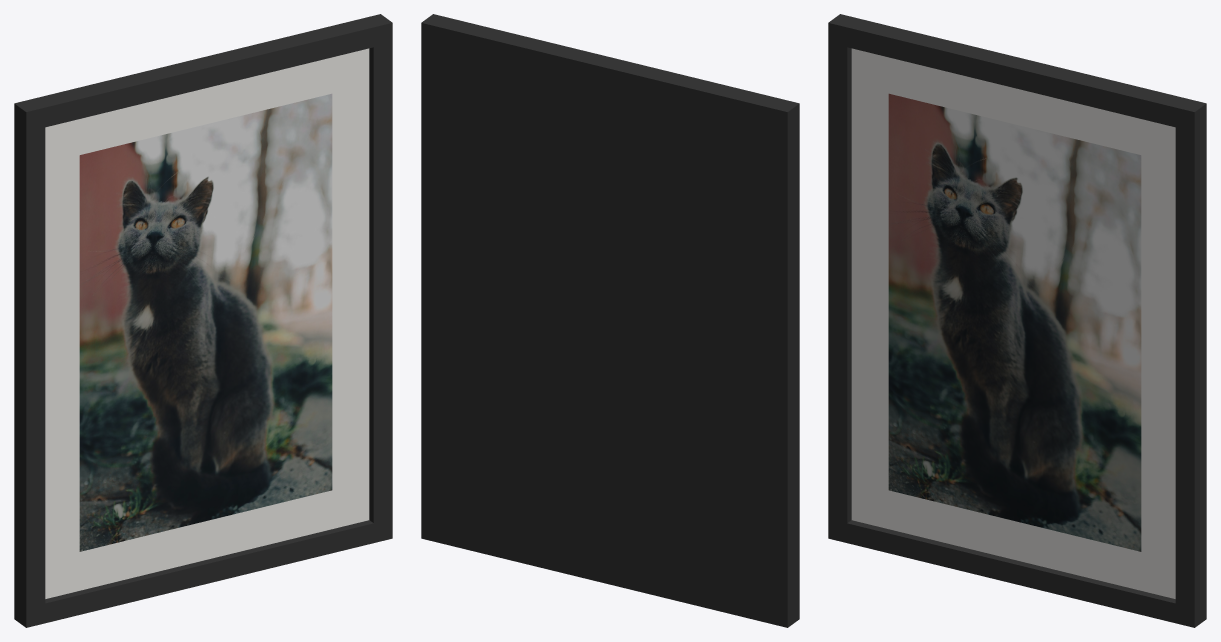
File: katten-40.gltf
3 views of the same model, side by side, from view 1: azimuth 30°, elevation 25°; view 2: azimuth 150°, elevation 25°; view 3: azimuth 330°, elevation 25° (orthographic).
Visible parts, largest first — view 1: tavla; view 2: tavla; view 3: tavla.
Boxes of the visible parts, <box> form: tavla: <box>14,14,392,627</box>; tavla: <box>421,14,799,627</box>; tavla: <box>828,14,1206,627</box>.
Bounding box in the file's own units: 0.3867 × 0.52 × 0.022.
3 materials, 1 textured.
